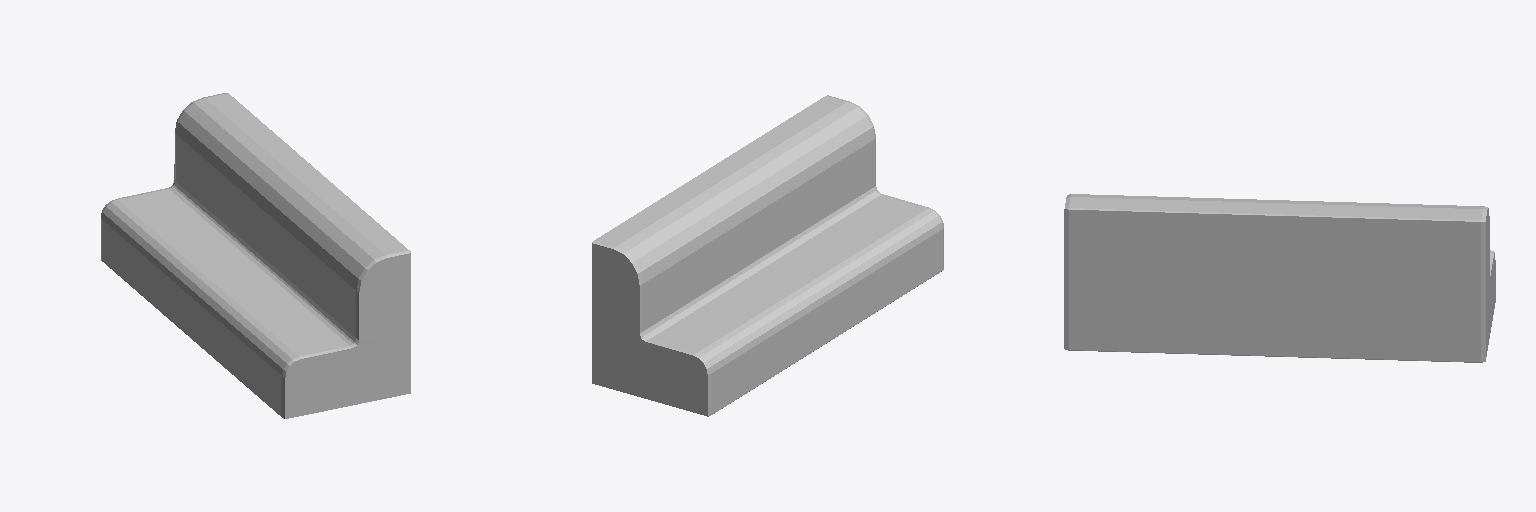
File: seat_4.obj
3 views of the same model, side by side, from view 1: azimuth 30°, elevation 25°; view 2: azimuth 150°, elevation 25°; view 3: azimuth 270°, elevation 25° (orthographic).
Parts seen in each view (by area): view 1: Cadeira1.003_Cube.003; view 2: Cadeira1.003_Cube.003; view 3: Cadeira1.003_Cube.003.
Boxes of the visible parts, box(x1,y1,x2,y2) form: Cadeira1.003_Cube.003: box(101, 93, 410, 418); Cadeira1.003_Cube.003: box(592, 95, 943, 416); Cadeira1.003_Cube.003: box(1064, 194, 1495, 362).
Bounding box in the file's own units: 1.31 × 1.2 × 3.3.